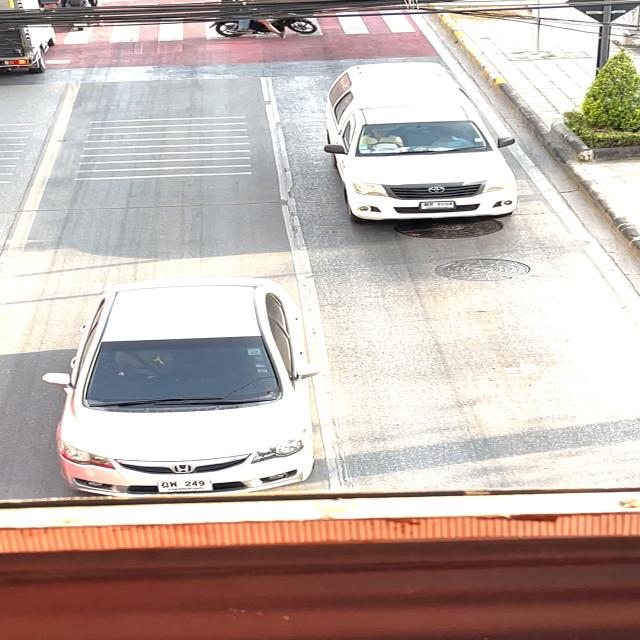car: (9, 268, 386, 496), (303, 59, 535, 239)
